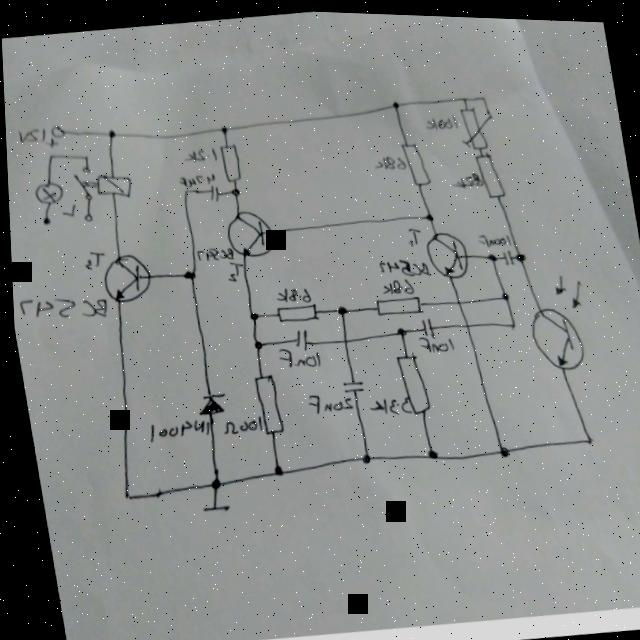capacitor: (289, 323, 306, 350), (336, 373, 361, 391), (416, 312, 431, 335), (205, 181, 218, 200), (498, 243, 511, 261)
crossover: (456, 312, 471, 330), (447, 290, 462, 307), (335, 330, 349, 347)
diode: (189, 386, 225, 415)
ground: (194, 496, 226, 517)
junction: (180, 265, 193, 279), (248, 335, 260, 349), (356, 446, 368, 459), (244, 307, 256, 320), (267, 460, 279, 473), (422, 443, 433, 457), (205, 474, 216, 488), (116, 485, 127, 499), (494, 439, 505, 452), (392, 321, 403, 334), (333, 300, 344, 313), (227, 181, 238, 194), (580, 428, 590, 440), (484, 247, 494, 258), (512, 246, 522, 257), (505, 314, 514, 326), (180, 184, 190, 194), (79, 151, 89, 161), (497, 285, 506, 296), (105, 126, 114, 137), (218, 122, 227, 132), (45, 149, 54, 159), (484, 107, 492, 117), (390, 95, 398, 105), (478, 89, 485, 99), (423, 207, 430, 217), (460, 90, 467, 99)
resistor: (391, 346, 427, 412), (248, 368, 280, 433), (472, 146, 504, 195), (454, 99, 486, 147), (398, 135, 429, 184), (370, 289, 419, 314), (216, 139, 241, 181), (272, 297, 315, 321)
terminal: (46, 122, 65, 138), (79, 210, 90, 222), (38, 213, 49, 225)
text: (13, 286, 106, 326), (142, 413, 207, 442), (375, 250, 427, 277), (301, 386, 350, 412), (273, 340, 318, 368), (363, 390, 408, 415), (216, 410, 259, 435), (414, 328, 450, 351), (272, 281, 308, 304), (472, 225, 509, 246), (421, 107, 457, 128), (176, 167, 213, 187), (447, 165, 482, 186), (376, 272, 411, 293), (192, 242, 230, 261), (369, 149, 404, 169), (179, 143, 215, 162), (14, 123, 46, 144), (79, 247, 104, 269), (221, 256, 243, 280), (403, 222, 421, 244), (56, 199, 75, 217)
transistor: (518, 264, 591, 369), (95, 248, 150, 304), (219, 203, 274, 257), (419, 222, 469, 276)
